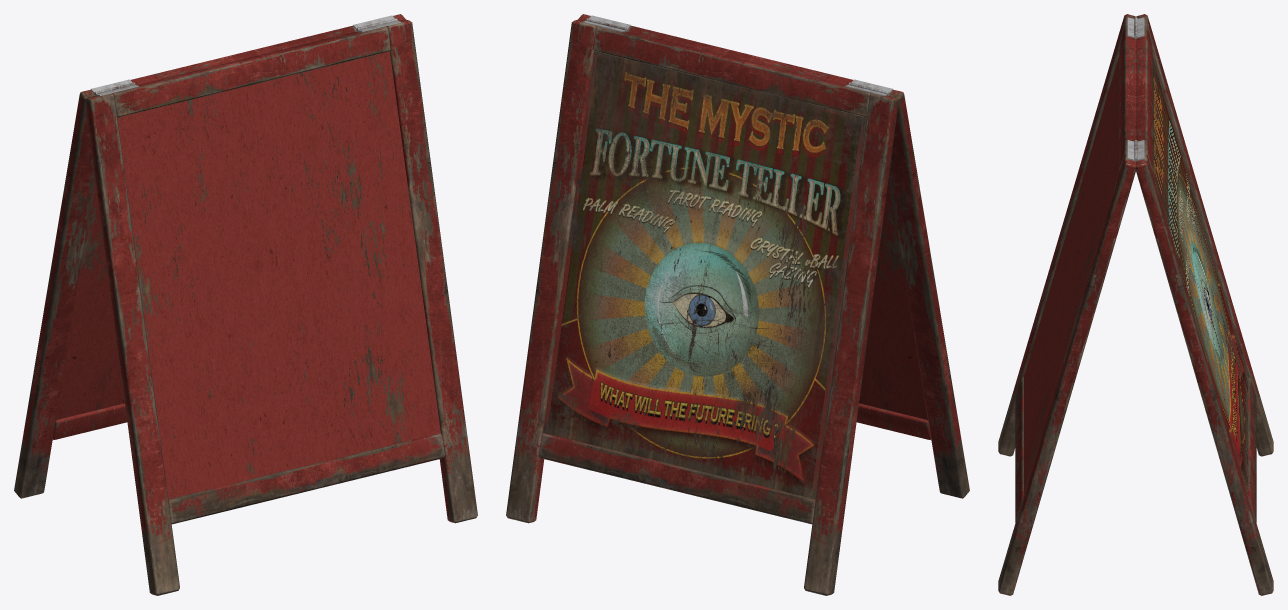
File: SM_FoldableSign.fbx
3 renders of one model, left to right at view 1: azimuth 30°, elevation 25°; view 2: azimuth 150°, elevation 25°; view 3: azimuth 270°, elevation 25°, orthographic. The views are drawn at different scales.
Visible parts, largest first — view 1: SM_FoldableSign_LOD0; view 2: SM_FoldableSign_LOD0; view 3: SM_FoldableSign_LOD0.
Part boxes in pixels (left/top/right/bottom): SM_FoldableSign_LOD0: left=14, top=14, right=477, bottom=595; SM_FoldableSign_LOD0: left=506, top=14, right=969, bottom=595; SM_FoldableSign_LOD0: left=998, top=14, right=1273, bottom=595.
Bounding box in the file's own units: 86.68 × 66.8 × 116.
1 material, 1 textured.
